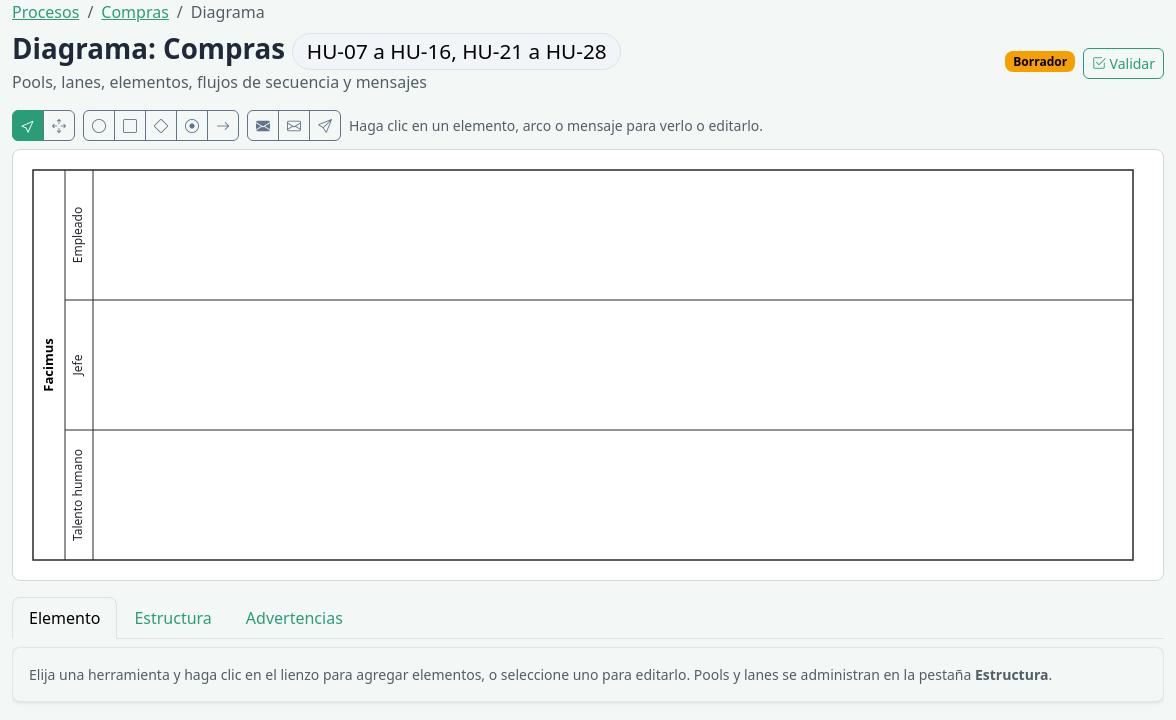
Scenario: ProcesoEditorPageComponent: estructura en su pestaña (HU-21, HU-22, HU-24) › carga el diagrama aunque falle el catálogo de roles
Click the button "Estructura" at (173, 618), box [117,597,229,639]
(page scrolled)
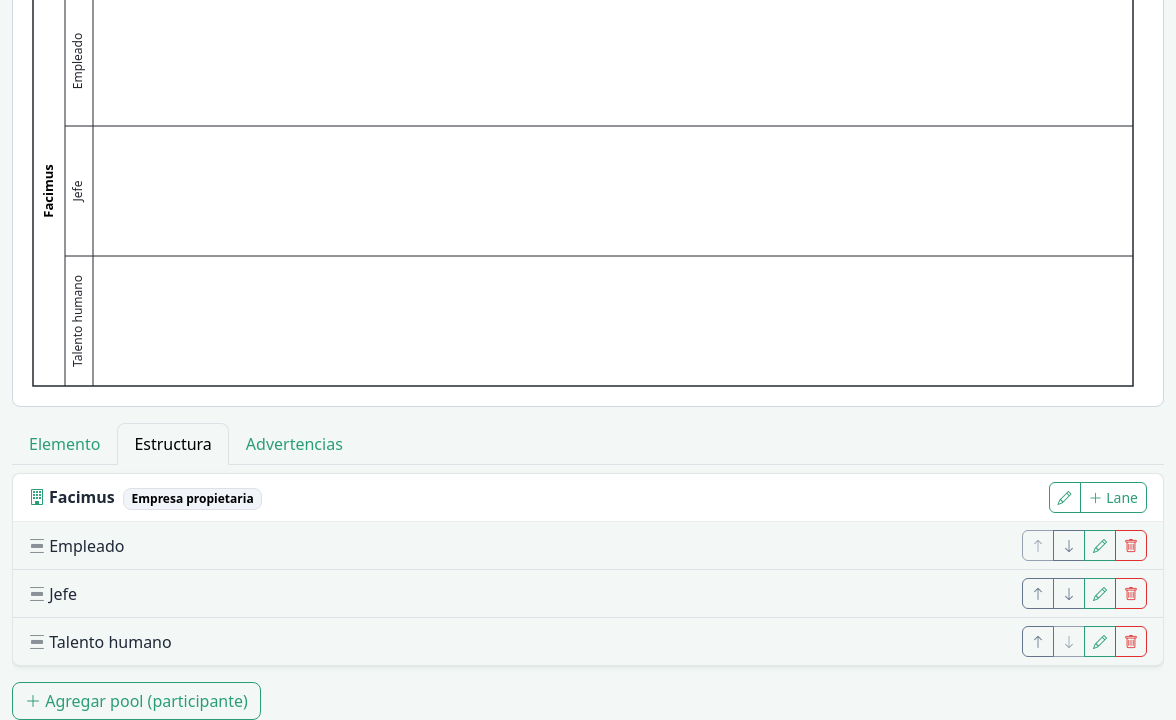
Expected: the element with id "estructuraDiagrama" shows "Talento humano", [45,631,172,653]
